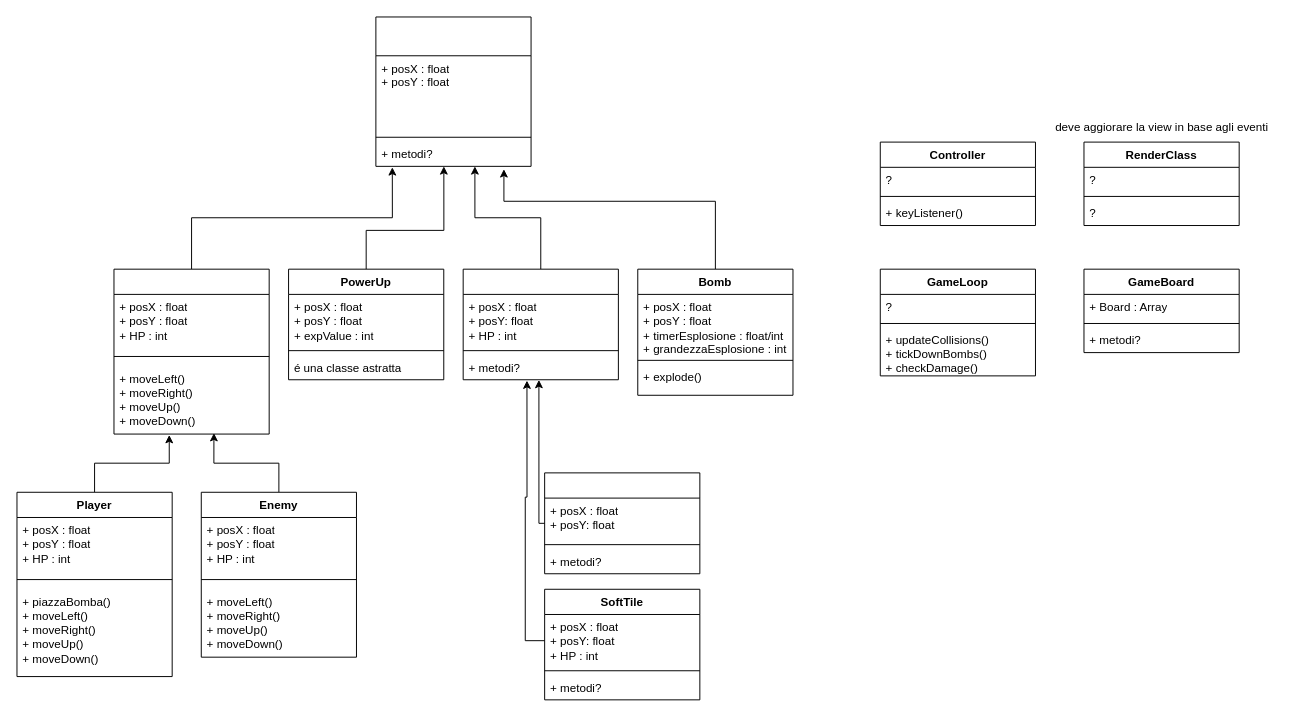
Image size: 1295x720. Some labels were removed from this diagram. The shapes that lost their labels are listed below. From the top down, each one's box as (x1, y1, x2, y2) in pixels, then its label:
(375, 16, 531, 166): <abstract> Entity
(462, 268, 618, 380): Tile
(113, 268, 269, 434): Character
(544, 472, 700, 574): RigidTile
